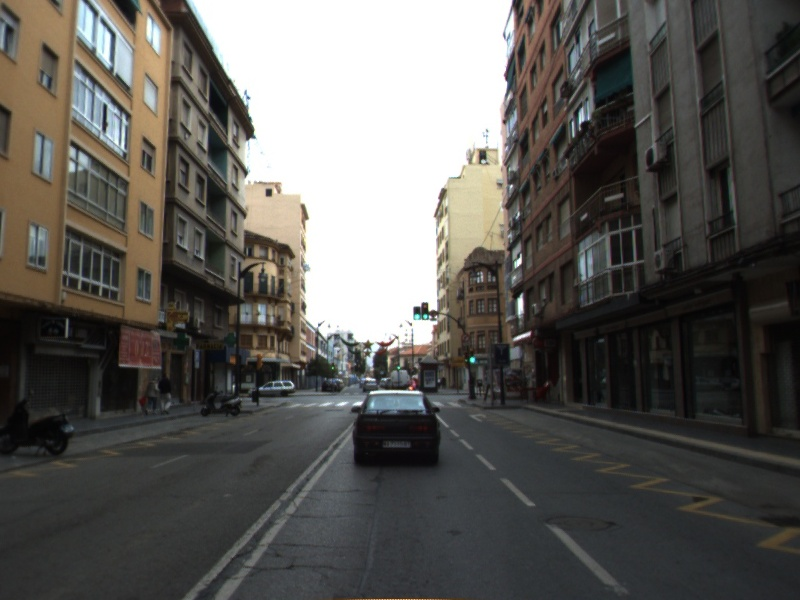RIGHT: (467, 411, 489, 424)
